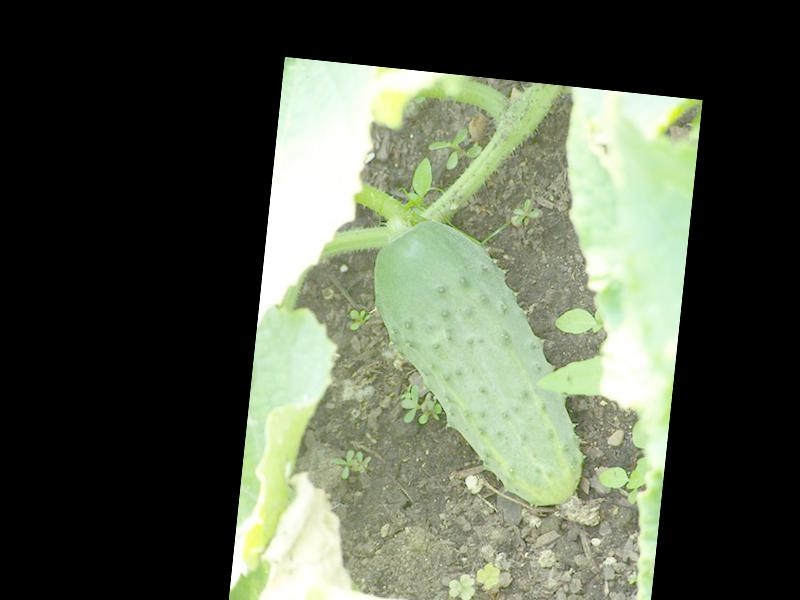Cucumber: (351, 213, 605, 509)
